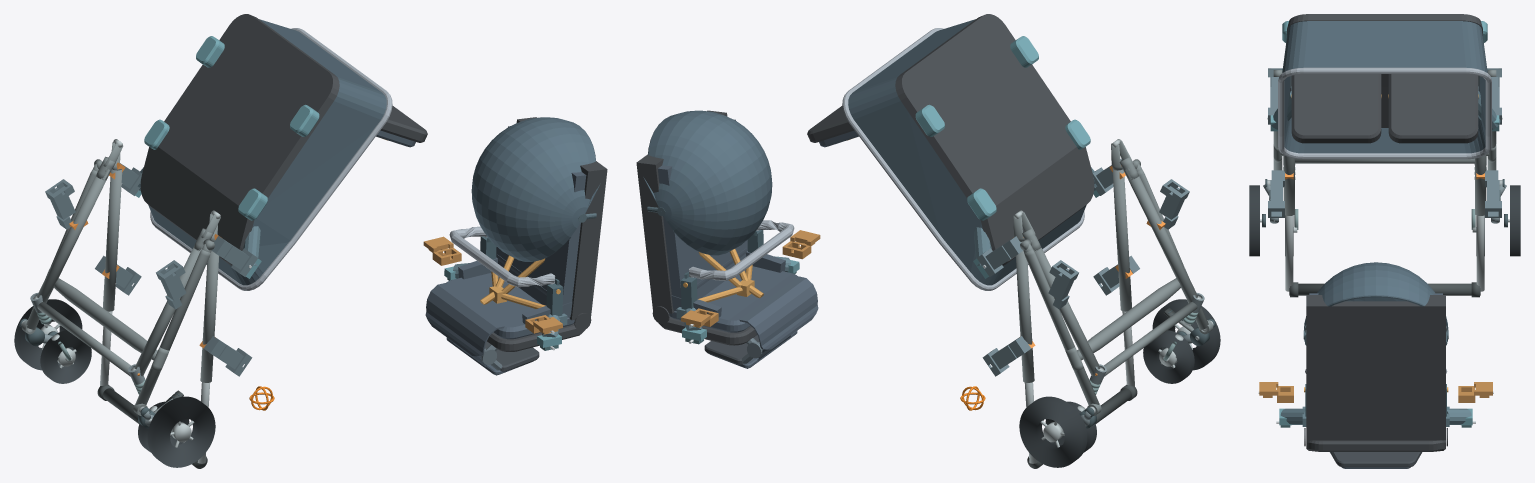
The model's file is D30_w650_state3_wheel_S.glb.
3 views of the same model, side by side, from view 1: azimuth 30°, elevation 25°; view 2: azimuth 150°, elevation 25°; view 3: azimuth 270°, elevation 25° (orthographic). The views are drawn at different scales.
Parts seen in each view (by area): view 1: D30_Lower, D30_Upper, RL_tire.011, FR_tire.011, main_upper_1.012, main_lower_1.012, V46_rearbar.011, V46_rear_leg_-1.011, main_upper_-1.012, RR_tire.011, main_lower_-1.012, front_fixed_round_tube.011 (+7 smaller); view 2: D30_Lower, D30_Upper, RR_tire.011, FL_tire.011, main_upper_-1.012, main_lower_-1.012, V46_rearbar.011, V46_rear_leg_1.011, main_upper_1.012, RL_tire.011, main_lower_1.012, front_fixed_round_tube.011 (+7 smaller); view 3: D30_Lower, D30_Upper, D30_Upper_Mount_H, front_fixed_round_tube.011, RL_tire.011, RR_tire.011, round_handle.013, Universal_Cabin_Receiver_H_1, Universal_Cabin_Receiver_H_-1, handle_slider_1.013, handle_slider_-1.013, main_upper_1.012 (+6 smaller).
Part boxes in pixels (bbox=[...]): D30_Lower: bbox=[140, 14, 427, 290]; D30_Upper: bbox=[425, 117, 607, 375]; RL_tire.011: bbox=[147, 396, 215, 467]; FR_tire.011: bbox=[40, 330, 91, 383]; main_upper_1.012: bbox=[103, 169, 122, 311]; main_lower_1.012: bbox=[37, 169, 109, 302]; V46_rearbar.011: bbox=[54, 278, 157, 360]; V46_rear_leg_-1.011: bbox=[135, 249, 210, 404]; main_upper_-1.012: bbox=[200, 241, 219, 382]; RR_tire.011: bbox=[14, 299, 82, 370]; main_lower_-1.012: bbox=[134, 247, 202, 376]; front_fixed_round_tube.011: bbox=[37, 302, 130, 376]; D30_Lower: bbox=[807, 14, 1094, 290]; D30_Upper: bbox=[636, 110, 818, 368]; RR_tire.011: bbox=[1019, 396, 1087, 467]; FL_tire.011: bbox=[1143, 330, 1194, 383]; main_upper_-1.012: bbox=[1112, 169, 1131, 311]; main_lower_-1.012: bbox=[1125, 169, 1197, 302]; V46_rearbar.011: bbox=[1077, 278, 1180, 360]; V46_rear_leg_1.011: bbox=[1024, 249, 1099, 404]; main_upper_1.012: bbox=[1015, 241, 1034, 382]; RL_tire.011: bbox=[1152, 299, 1220, 370]; main_lower_1.012: bbox=[1032, 247, 1100, 376]; front_fixed_round_tube.011: bbox=[1104, 302, 1197, 376]; D30_Lower: bbox=[1278, 14, 1491, 159]; D30_Upper: bbox=[1303, 262, 1448, 468]; D30_Upper_Mount_H: bbox=[1276, 406, 1475, 427]; front_fixed_round_tube.011: bbox=[1295, 158, 1474, 163]; RL_tire.011: bbox=[1249, 185, 1259, 256]; RR_tire.011: bbox=[1510, 185, 1520, 256]; round_handle.013: bbox=[1289, 283, 1480, 295]; Universal_Cabin_Receiver_H_1: bbox=[1485, 170, 1501, 217]; Universal_Cabin_Receiver_H_-1: bbox=[1268, 170, 1284, 217]; handle_slider_1.013: bbox=[1476, 215, 1484, 291]; handle_slider_-1.013: bbox=[1285, 215, 1293, 291]; main_upper_1.012: bbox=[1475, 155, 1486, 215].
Bounding box in the file's own units: 1.58 × 1.1 × 0.766.
